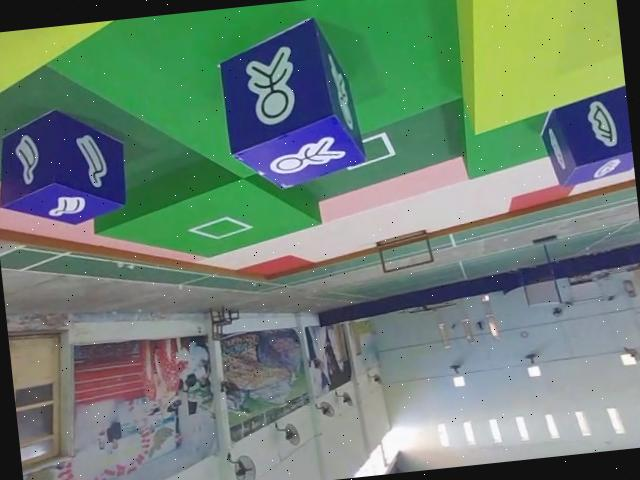R2 Real Blue: (215, 13, 369, 193), (0, 102, 132, 232), (537, 81, 636, 191)
